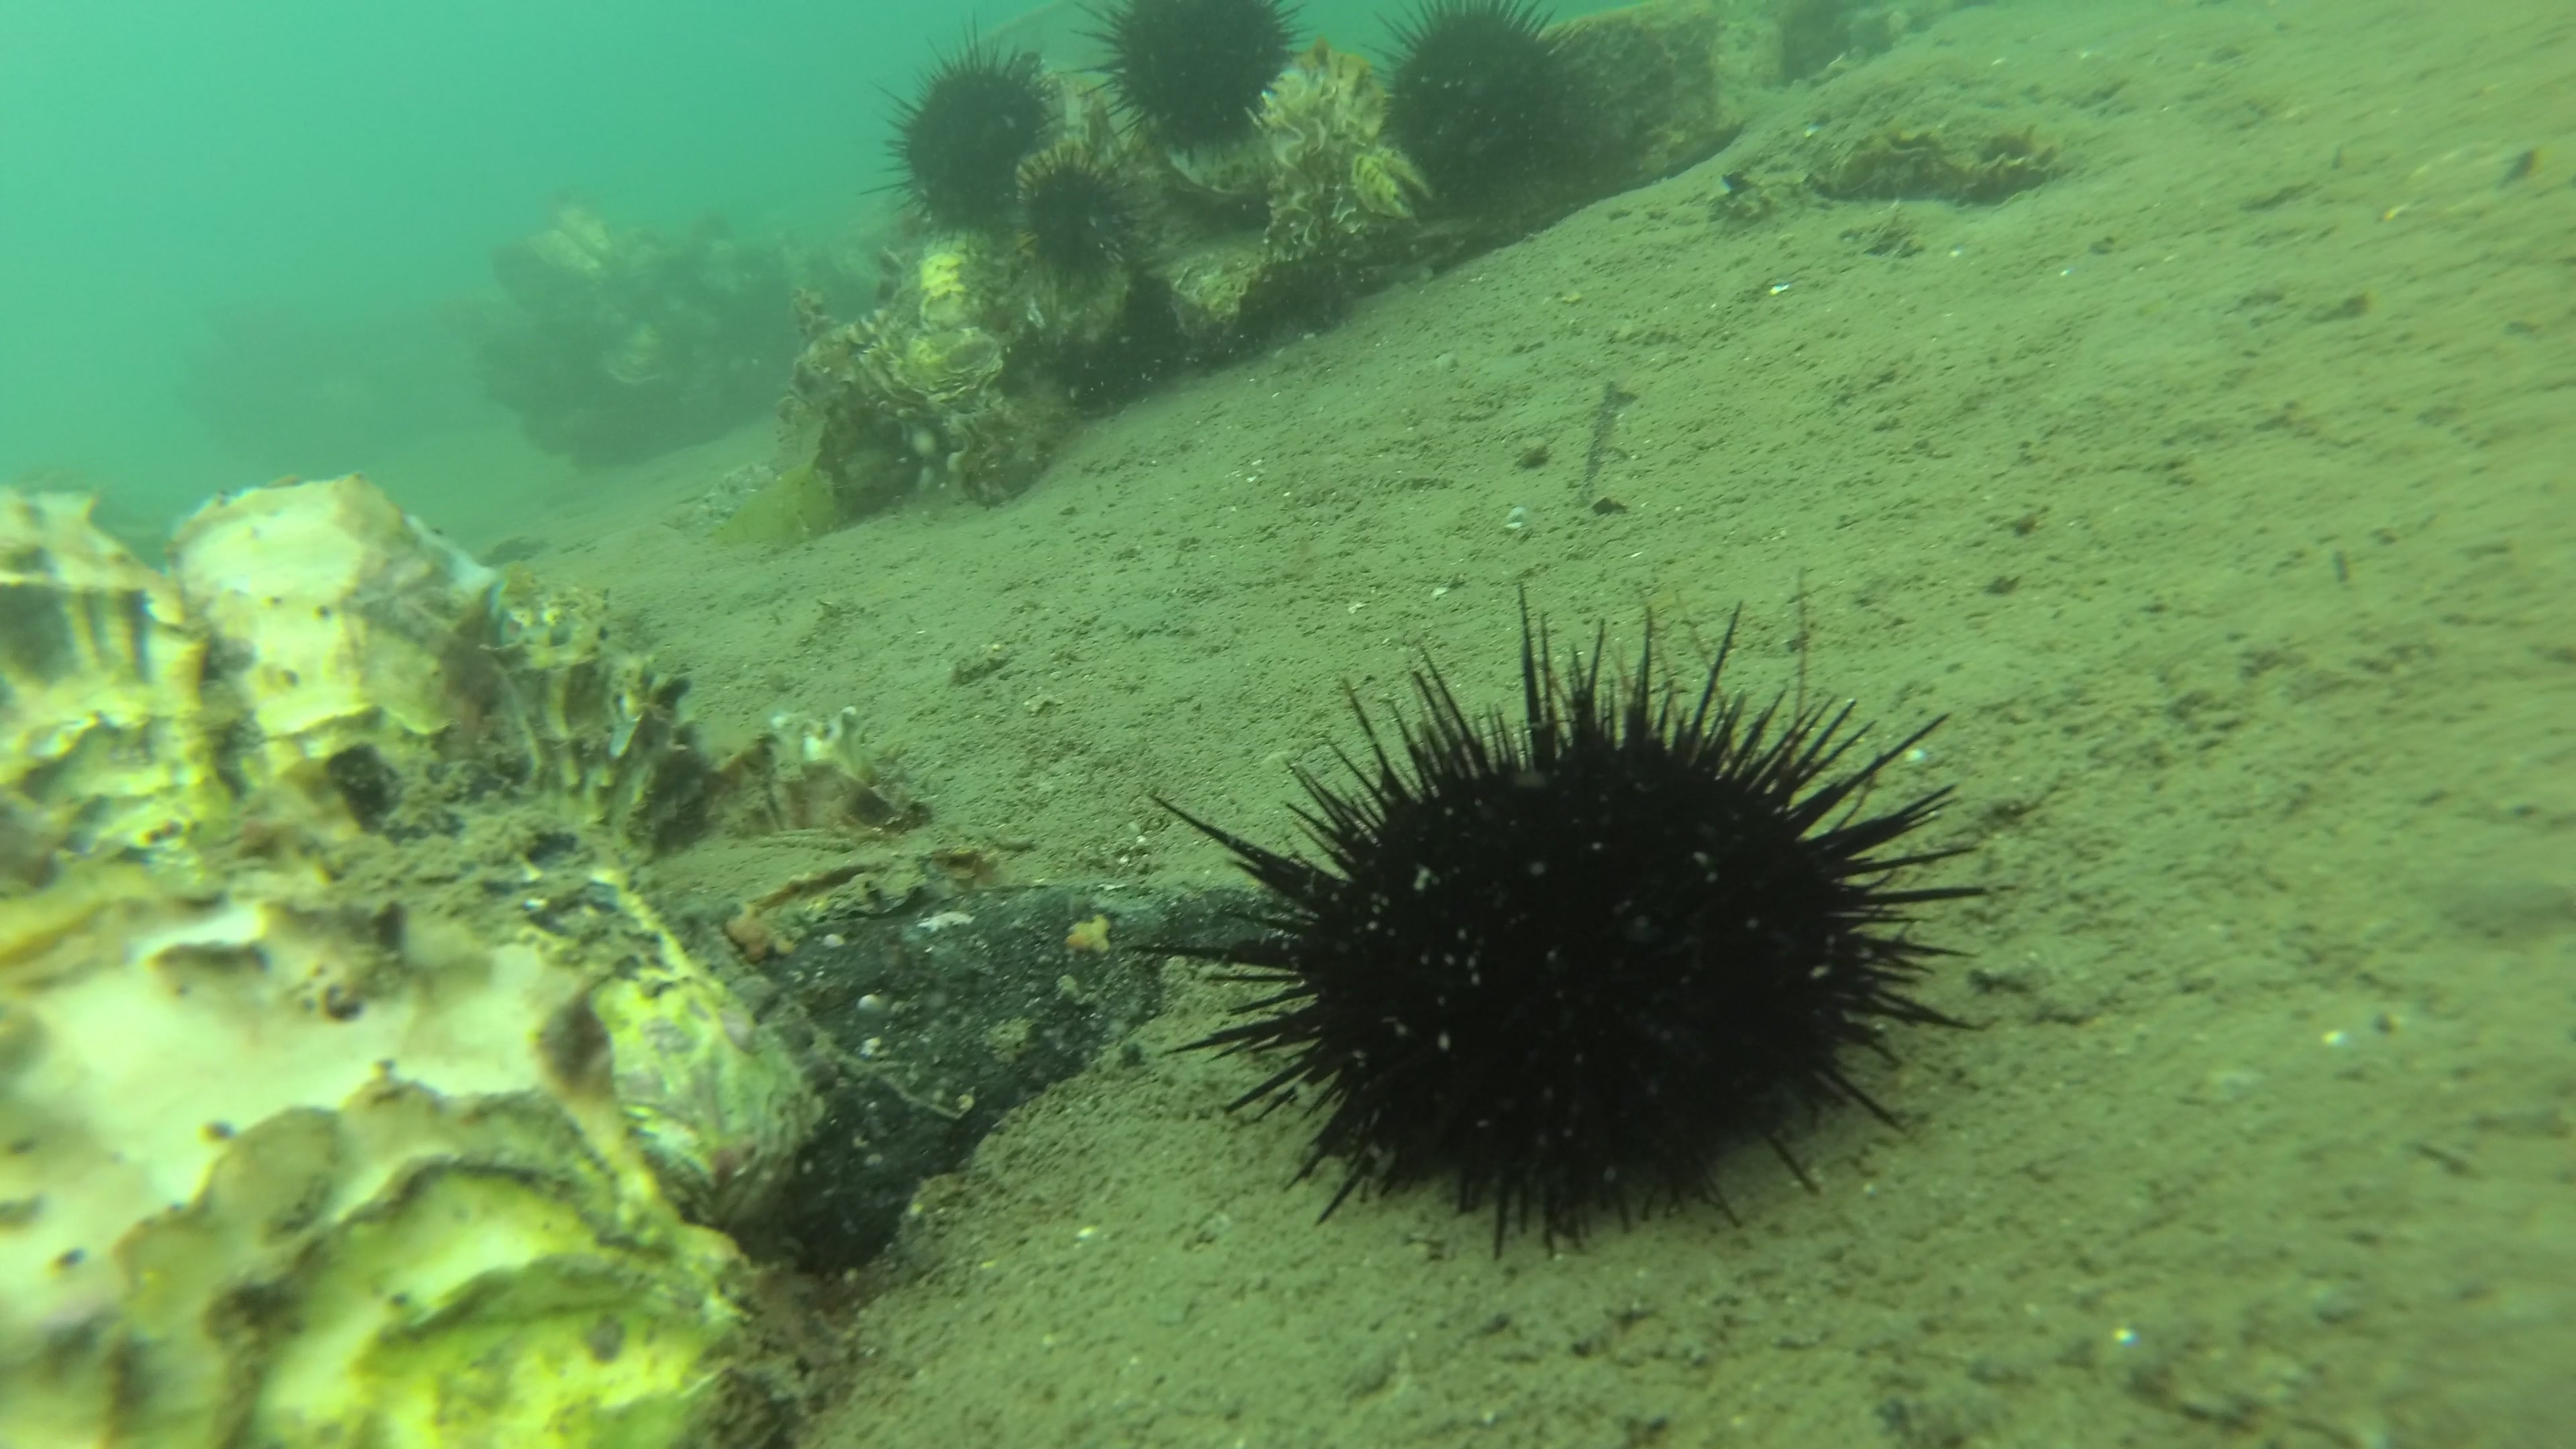echinus: (858, 7, 1067, 253), (1357, 0, 1599, 196), (1062, 0, 1316, 165), (1010, 133, 1145, 290)
